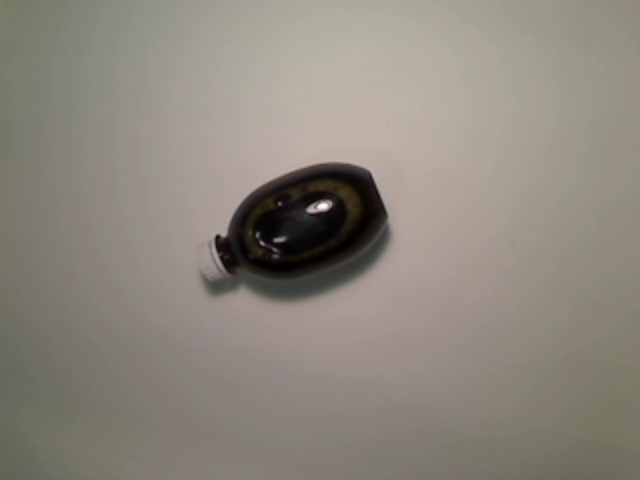plast_bottle: (195, 159, 390, 285)
